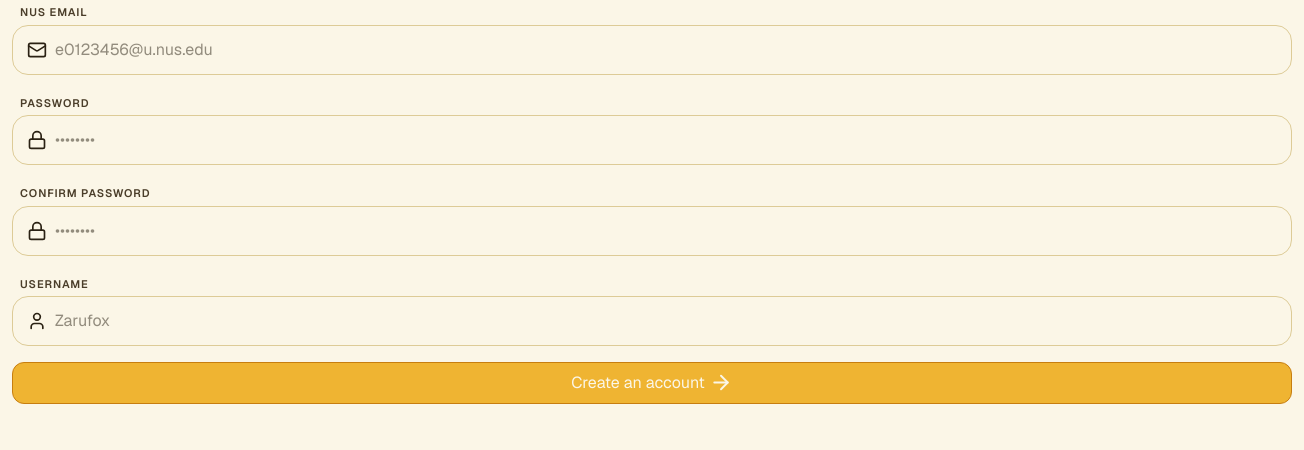
Scenario: RegisterForm › client side validation shows an error when fields are left blank
Click the button "Create an account" at (652, 383), box 12,362 -> 1292,404
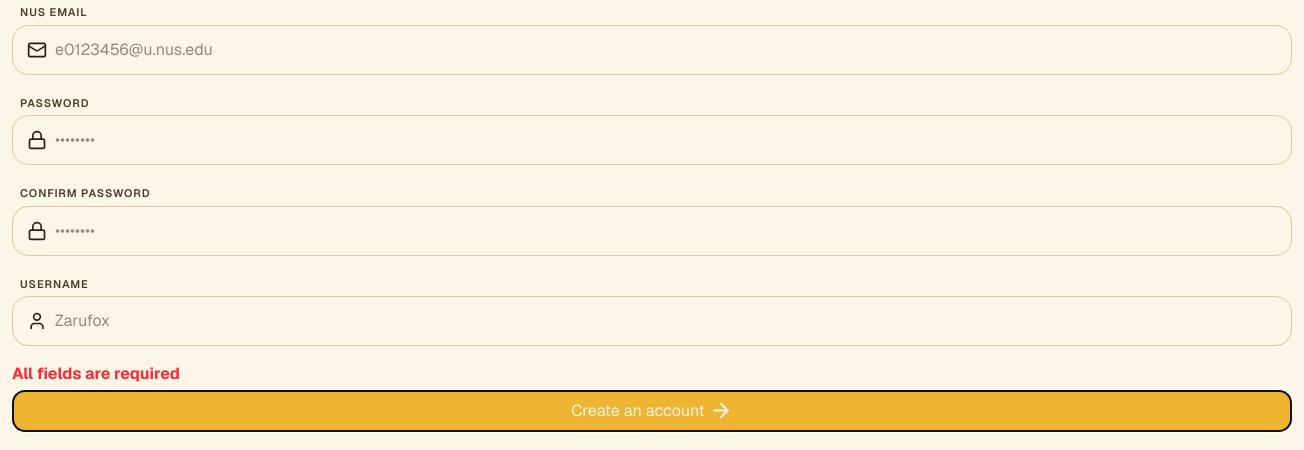
Now the text "All fields are required" is shown, box 12,363 -> 180,384
